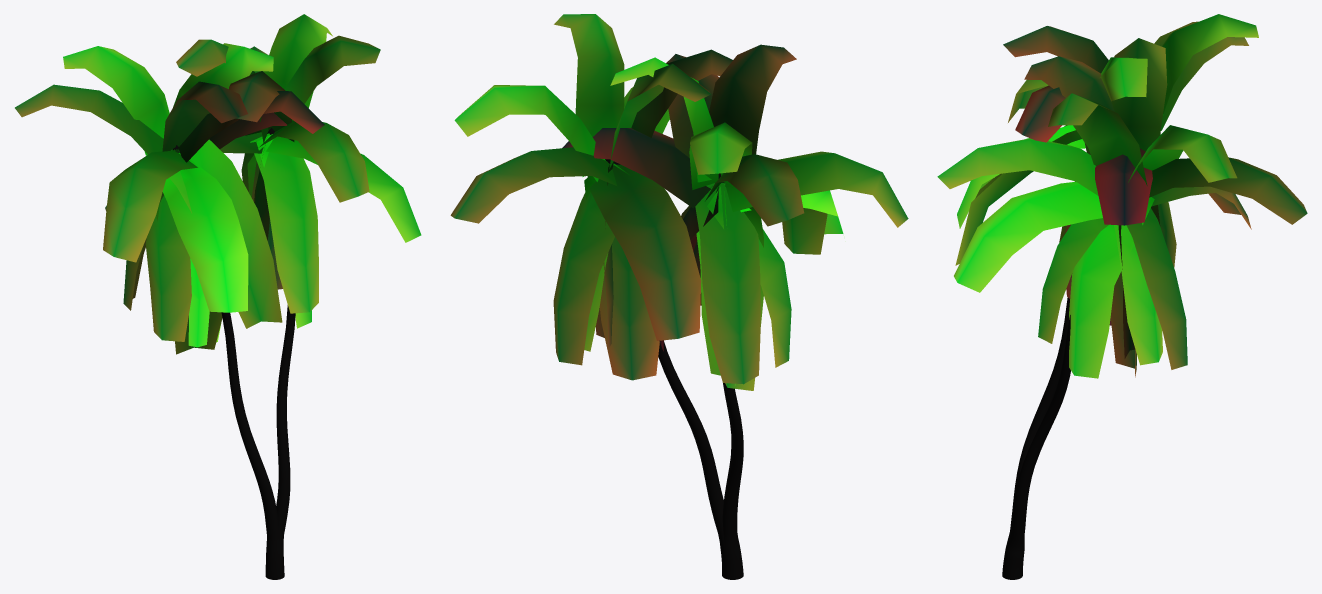
Rendered from SM_Palm6_10.fbx.
3 renders of one model, left to right at view 1: azimuth 30°, elevation 25°; view 2: azimuth 150°, elevation 25°; view 3: azimuth 270°, elevation 25°, orthographic. The views are drawn at different scales.
Visible parts, largest first — view 1: SM_Palm6_10; view 2: SM_Palm6_10; view 3: SM_Palm6_10.
Boxes of the visible parts, bbox=[...] form: SM_Palm6_10: bbox=[15, 14, 421, 579]; SM_Palm6_10: bbox=[450, 14, 908, 579]; SM_Palm6_10: bbox=[937, 14, 1307, 579].
Bounding box in the file's own units: 754 × 1159 × 727.
